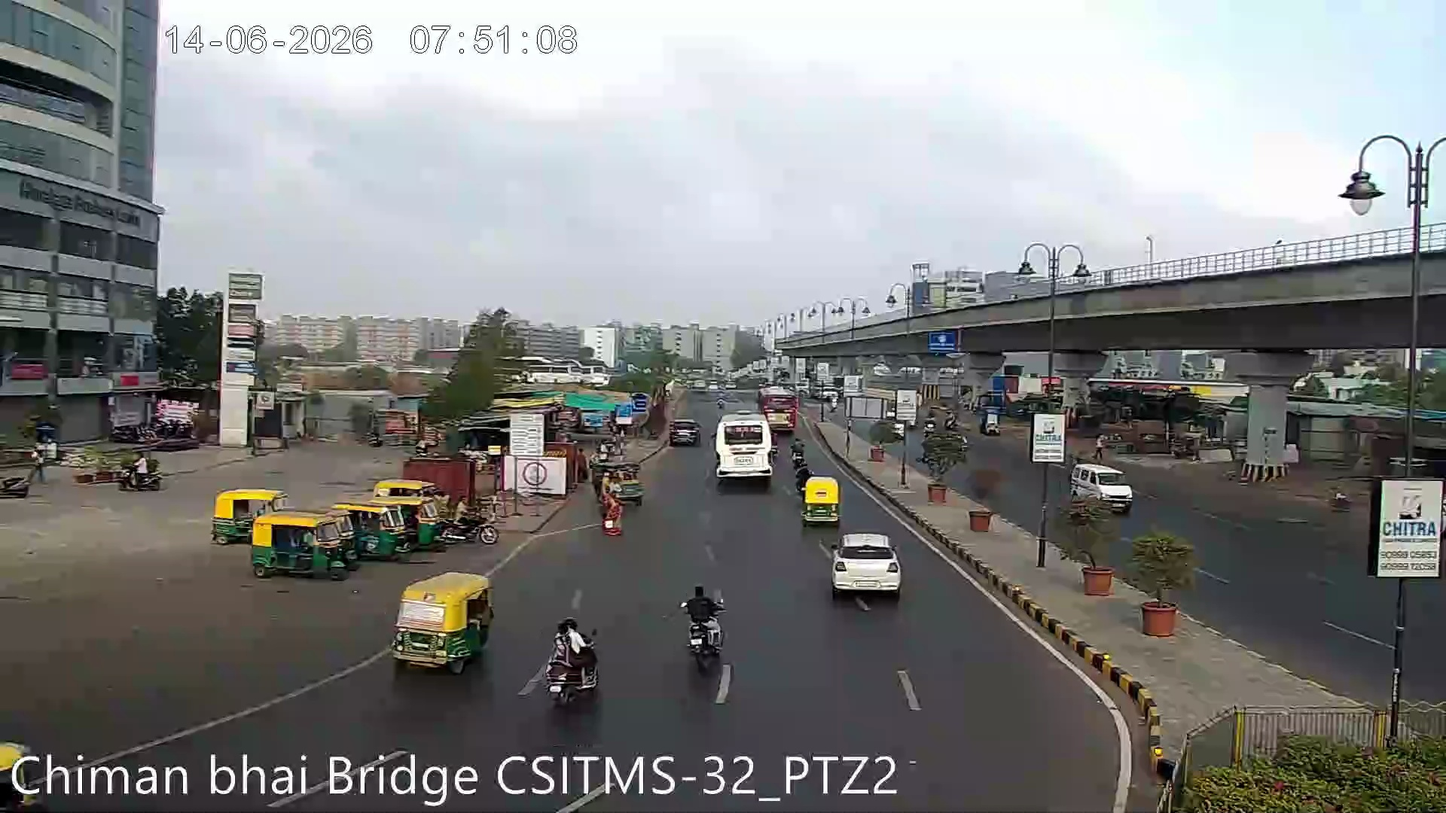auto_rickshaw: (391, 569, 496, 671), (341, 482, 451, 557), (246, 505, 354, 580), (367, 475, 454, 548), (335, 494, 413, 558), (208, 483, 286, 544), (802, 474, 841, 522), (600, 469, 647, 505), (668, 416, 701, 446)
bus: (714, 411, 775, 483)
car: (828, 529, 903, 595), (1067, 459, 1136, 514)
two_wheeler: (540, 612, 604, 705), (679, 576, 729, 673), (77, 443, 166, 492), (599, 493, 625, 539)
